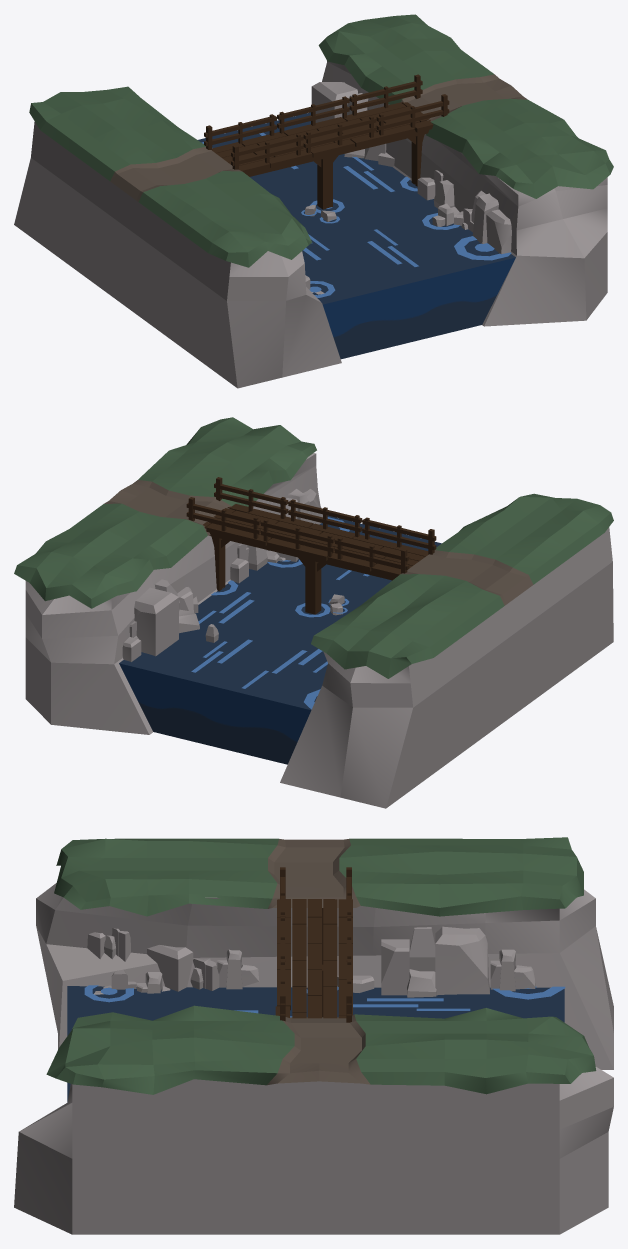
File: Wood Bridge and Environment .obj
3 renders of one model, top to bottom at view 1: azimuth 30°, elevation 25°; view 2: azimuth 150°, elevation 25°; view 3: azimuth 270°, elevation 25°, orthographic. The views are drawn at different scales.
Visible parts, largest first — view 1: Environment1, wood_Bridge_1; view 2: Environment1, wood_Bridge_1; view 3: Environment1, wood_Bridge_1.
Part boxes in pixels (x1,y1,x2,y2): Environment1: [14, 14, 613, 388]; wood_Bridge_1: [204, 74, 449, 209]; Environment1: [14, 417, 613, 808]; wood_Bridge_1: [186, 477, 436, 614]; Environment1: [14, 837, 613, 1234]; wood_Bridge_1: [275, 867, 352, 1022].
Bounding box in the file's own units: 2408 × 892 × 2525.
Materials: 2 (2 with a texture image).
